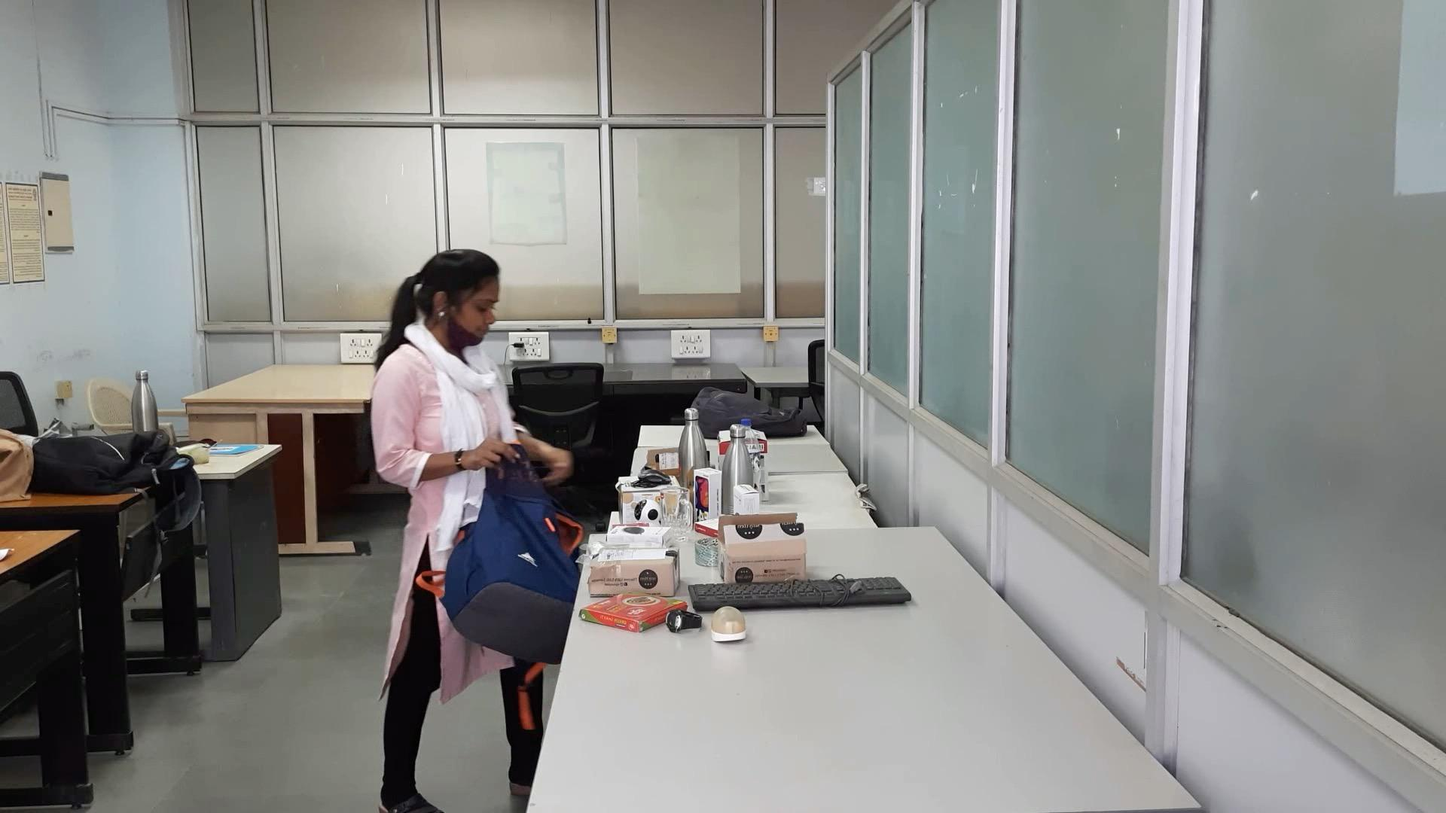shoplifting: (327, 429, 715, 674)
